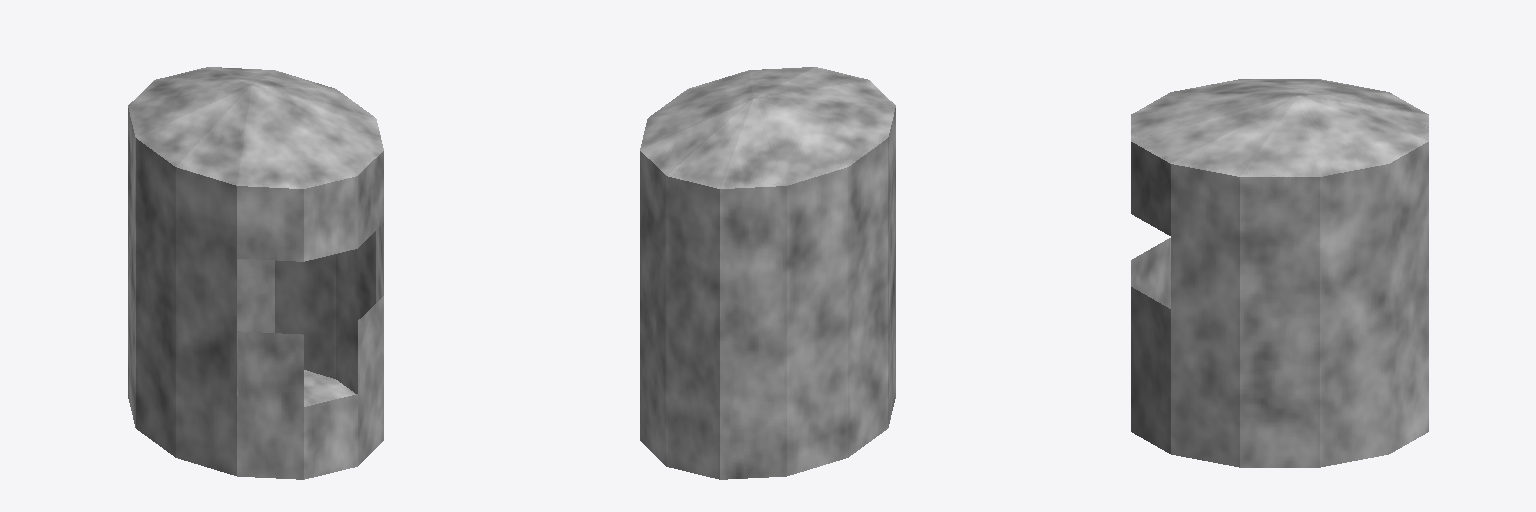
3 renders of one model, left to right at view 1: azimuth 30°, elevation 25°; view 2: azimuth 150°, elevation 25°; view 3: azimuth 270°, elevation 25°, orthographic.
Parts seen in each view (by area): view 1: Mesh_Cylinder.001; view 2: Mesh_Cylinder.001; view 3: Mesh_Cylinder.001.
Part boxes in pixels (x1,y1,x2,y2): Mesh_Cylinder.001: (128, 67, 383, 479); Mesh_Cylinder.001: (640, 67, 895, 479); Mesh_Cylinder.001: (1131, 79, 1428, 467).
Size of the model in its own units: 0.2152 by 0.3335 by 0.2773.
1 materials, 1 textured.